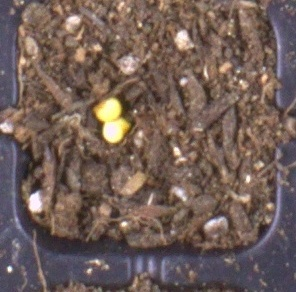chilli seed: (102, 117, 131, 144), (93, 97, 122, 122)
